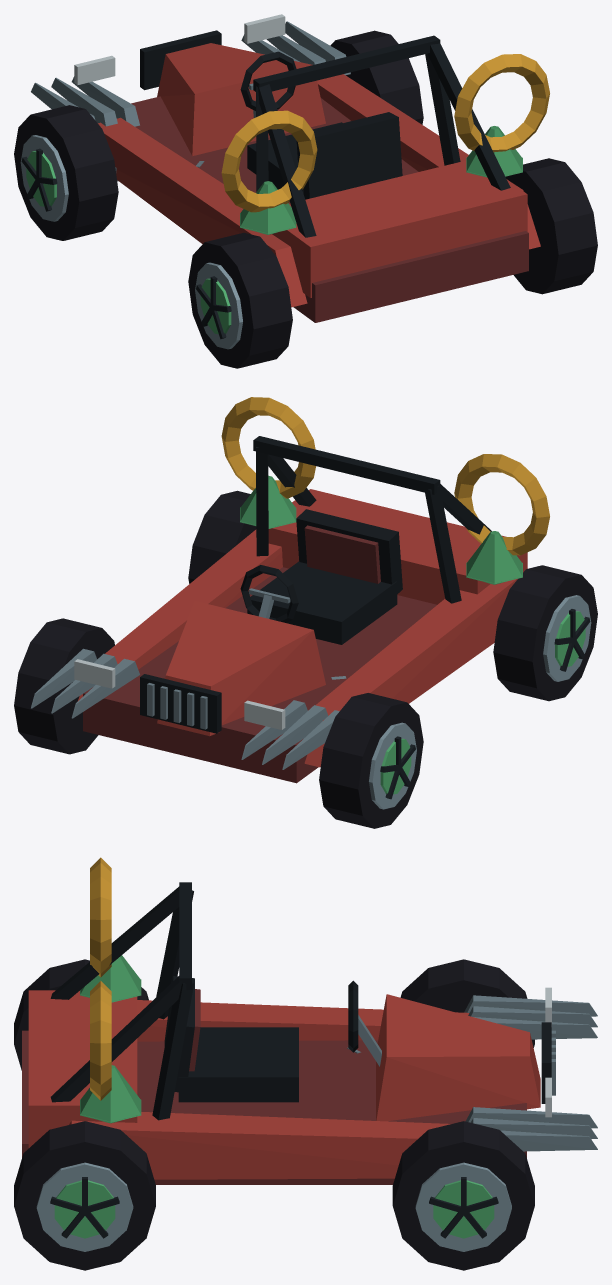
Rendered from kart.glb.
3 renders of one model, top to bottom at view 1: azimuth 30°, elevation 25°; view 2: azimuth 150°, elevation 25°; view 3: azimuth 270°, elevation 25°, orthographic. The views are drawn at different scales.
Visible parts, largest first — view 1: identity-buggy-buggy-offroad-frame, wheel-rear-left, wheel-front-left, identity-buggy-motif-ring, wheel-rear-right, identity-buggy-driver-cockpit, identity-buggy-motif-claws, wheel-front-right, identity-buggy-motif-gems; view 2: identity-buggy-buggy-offroad-frame, identity-buggy-driver-cockpit, wheel-front-left, wheel-rear-left, identity-buggy-motif-ring, wheel-front-right, identity-buggy-motif-claws, identity-buggy-motif-gems, wheel-rear-right; view 3: identity-buggy-buggy-offroad-frame, wheel-front-right, wheel-rear-right, identity-buggy-driver-cockpit, identity-buggy-motif-claws, identity-buggy-motif-ring, wheel-front-left, identity-buggy-motif-gems, wheel-rear-left.
Boxes of the visible parts, <box> form: identity-buggy-buggy-offroad-frame: <box>74,14,540,322</box>; wheel-rear-left: <box>188,232,292,368</box>; wheel-front-left: <box>14,105,118,240</box>; identity-buggy-motif-ring: <box>221,54,549,212</box>; wheel-rear-right: <box>505,158,597,294</box>; identity-buggy-driver-cockpit: <box>240,51,402,199</box>; identity-buggy-motif-claws: <box>31,21,350,126</box>; wheel-front-right: <box>330,30,423,124</box>; identity-buggy-motif-gems: <box>240,126,522,234</box>; identity-buggy-buggy-offroad-frame: <box>74,436,527,783</box>; identity-buggy-driver-cockpit: <box>240,509,402,644</box>; wheel-front-left: <box>319,693,423,828</box>; wheel-rear-left: <box>493,565,597,701</box>; identity-buggy-motif-ring: <box>221,397,549,555</box>; wheel-front-right: <box>14,618,114,754</box>; identity-buggy-motif-claws: <box>31,648,339,769</box>; identity-buggy-motif-gems: <box>240,475,522,584</box>; wheel-rear-right: <box>188,490,256,583</box>; identity-buggy-buggy-offroad-frame: <box>22,882,555,1184</box>; wheel-front-right: <box>392,1121,534,1270</box>; wheel-rear-right: <box>14,1121,155,1270</box>; identity-buggy-driver-cockpit: <box>164,976,381,1102</box>; identity-buggy-motif-claws: <box>464,995,597,1151</box>; identity-buggy-motif-ring: <box>90,857,111,1100</box>; wheel-front-left: <box>400,959,534,1047</box>; identity-buggy-motif-gems: <box>80,955,141,1123</box>; wheel-rear-left: <box>14,959,148,1070</box>.
Bounding box in the file's own units: 2.31 × 1.42 × 2.96.
